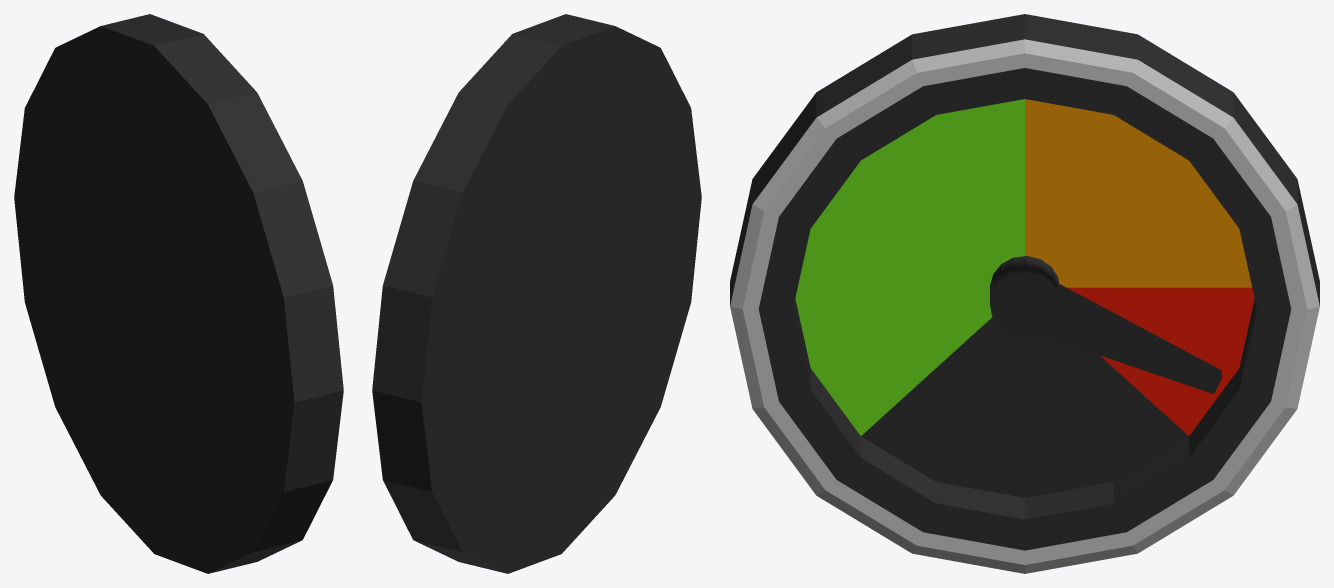
Rendered from SpeedBooster.glb.
The picture shows the model from 3 angles, left to right: view 1: azimuth 30°, elevation 25°; view 2: azimuth 150°, elevation 25°; view 3: azimuth 270°, elevation 25°; orthographic projection. The views are drawn at different scales.
Visible parts, largest first — view 1: Circle.003; view 2: Circle.003; view 3: Circle.003.
Part boxes in pixels (x1,y1,x2,y2): Circle.003: (14, 14, 343, 573); Circle.003: (372, 14, 701, 573); Circle.003: (730, 14, 1319, 573).
Size of the model in its own units: 0.2004 by 1.79 by 1.79.
